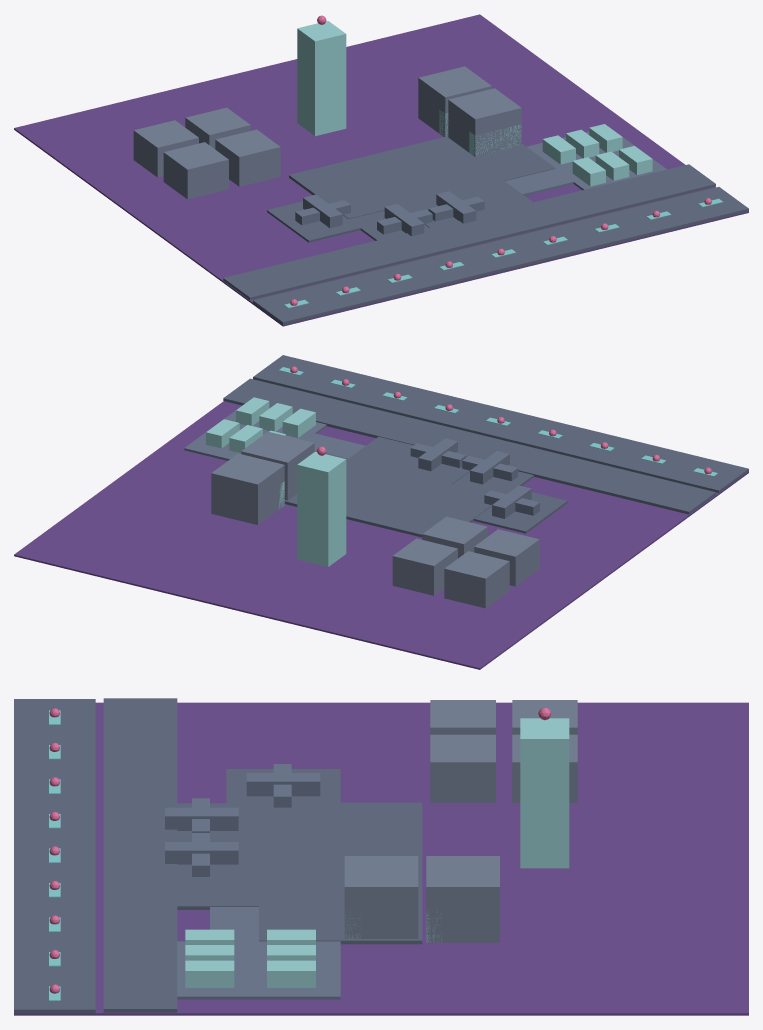
Rendered from stage_18.glb.
3 views of the same model, one above another, from view 1: azimuth 30°, elevation 25°; view 2: azimuth 150°, elevation 25°; view 3: azimuth 270°, elevation 25° (orthographic). The views are drawn at different scales.
Parts seen in each view (by area): view 1: geometry_0; view 2: geometry_0; view 3: geometry_0.
Boxes of the visible parts, box(x1,y1,x2,y2) form: geometry_0: box(14, 14, 748, 326); geometry_0: box(14, 355, 748, 669); geometry_0: box(14, 698, 748, 1015).
Size of the model in its own units: 9 by 2.06 by 9.
